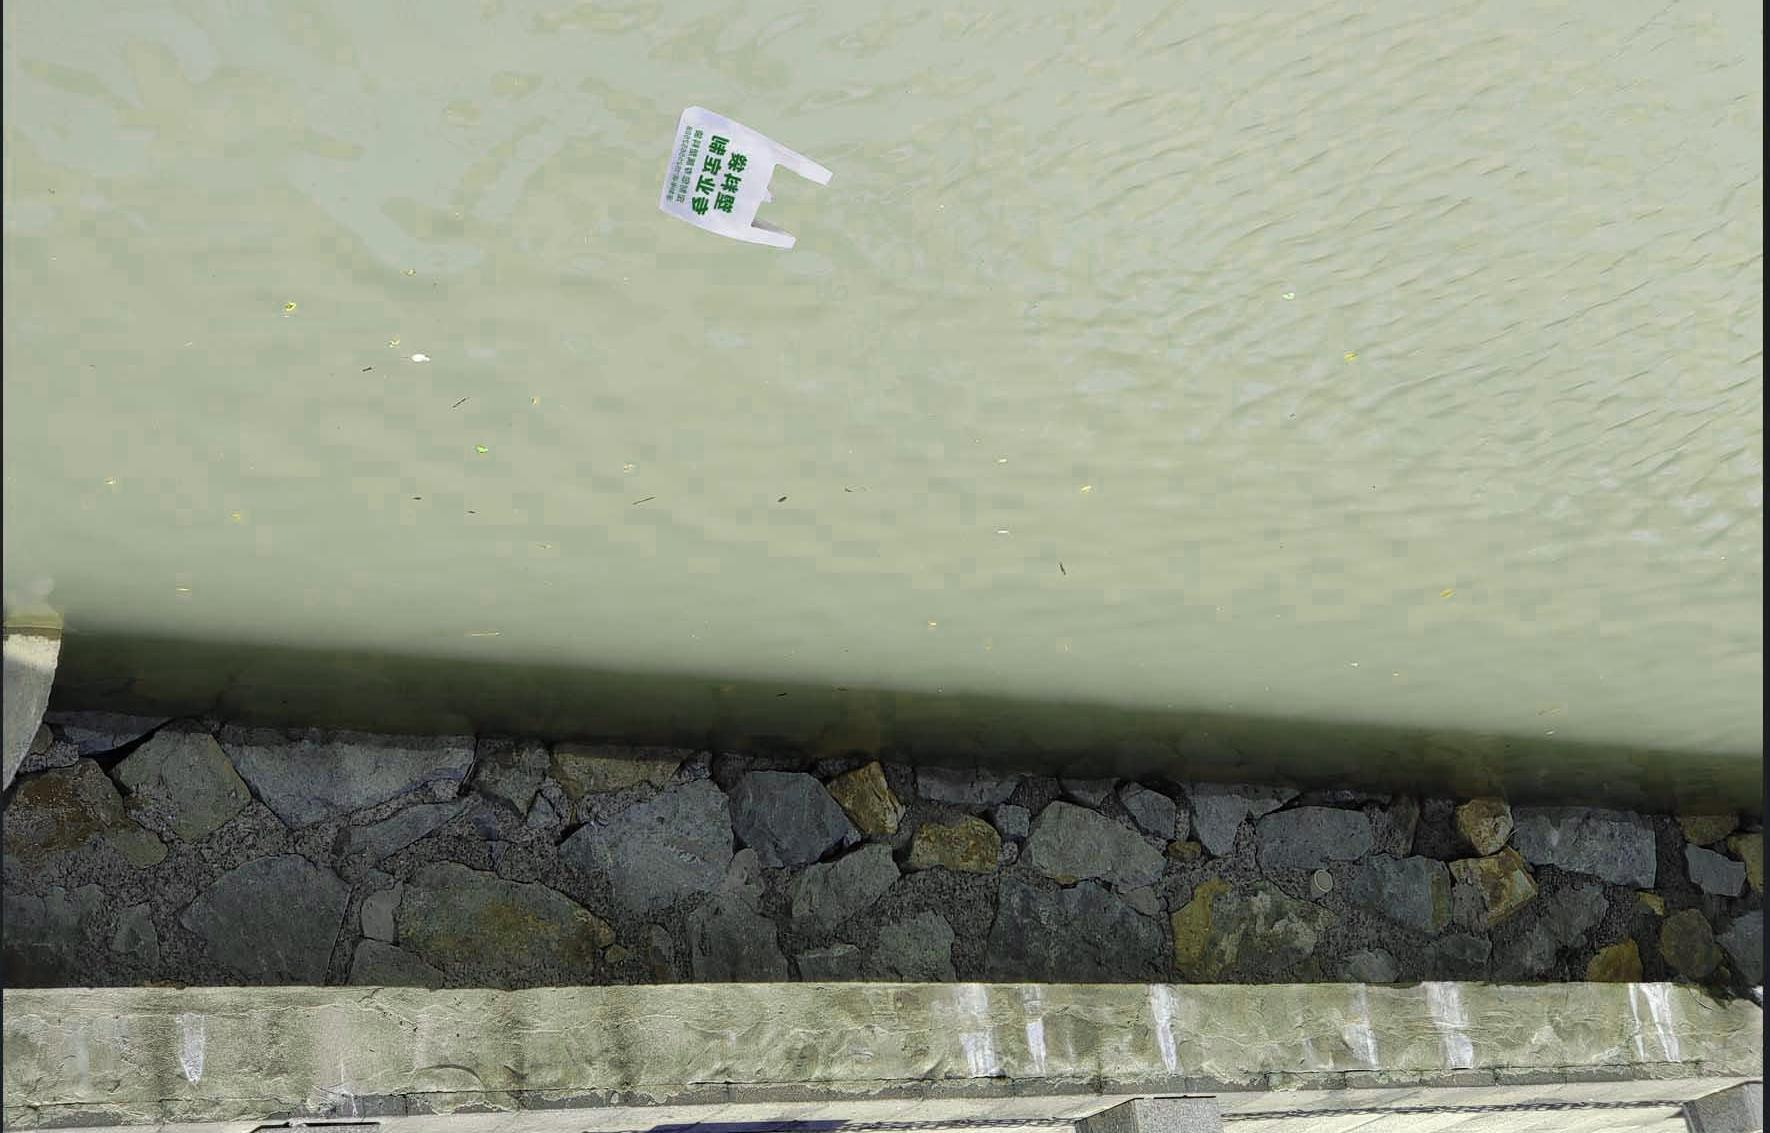Trash: (649, 101, 835, 259)
